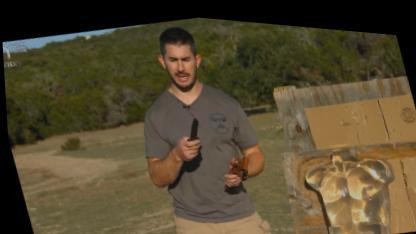knife: (167, 106, 211, 162)
